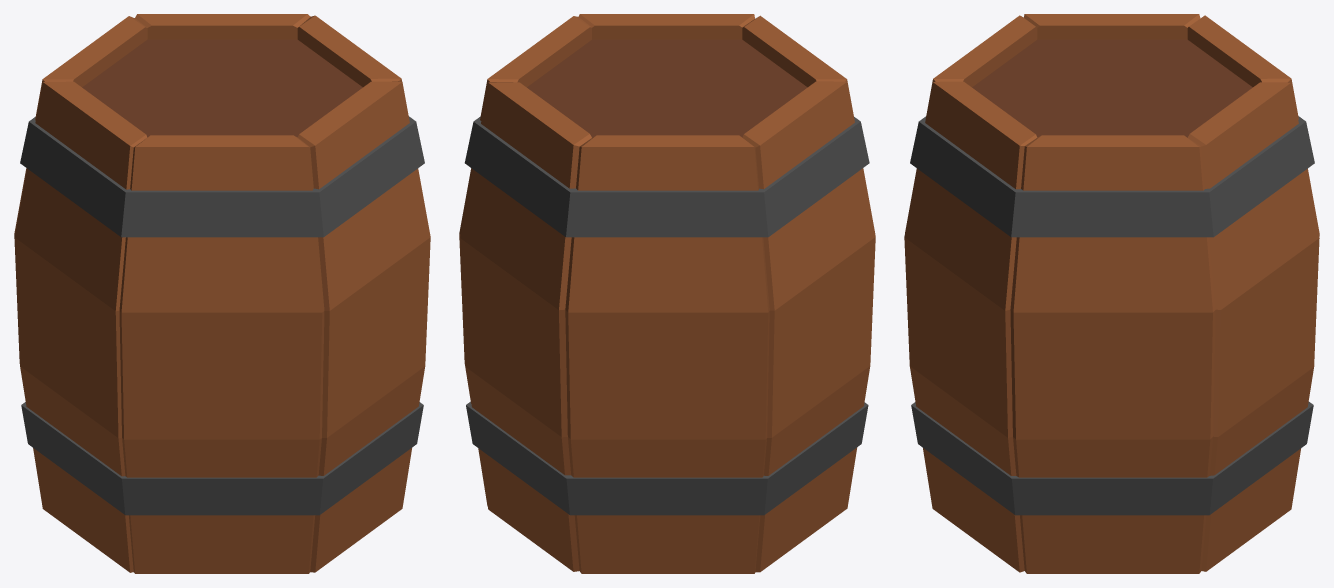
File: fatbarrel.fbx
3 views of the same model, side by side, from view 1: azimuth 30°, elevation 25°; view 2: azimuth 150°, elevation 25°; view 3: azimuth 270°, elevation 25° (orthographic).
Parts seen in each view (by area): view 1: Cylinder.002; view 2: Cylinder.002; view 3: Cylinder.002.
Boxes of the visible parts, x1,y1,x2,y2 form: Cylinder.002: (14,14,430,573); Cylinder.002: (459,14,875,573); Cylinder.002: (904,14,1319,573).
Bounding box in the file's own units: 200 × 259 × 228.
